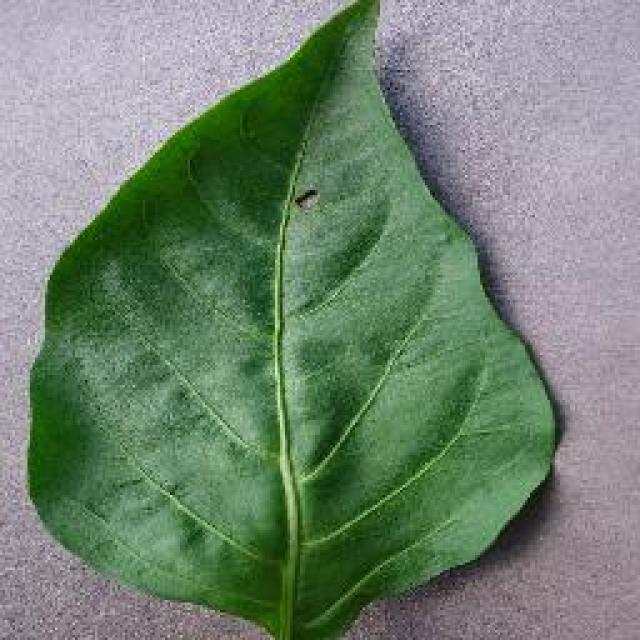Chilli_Healthy: (22, 0, 560, 638)
